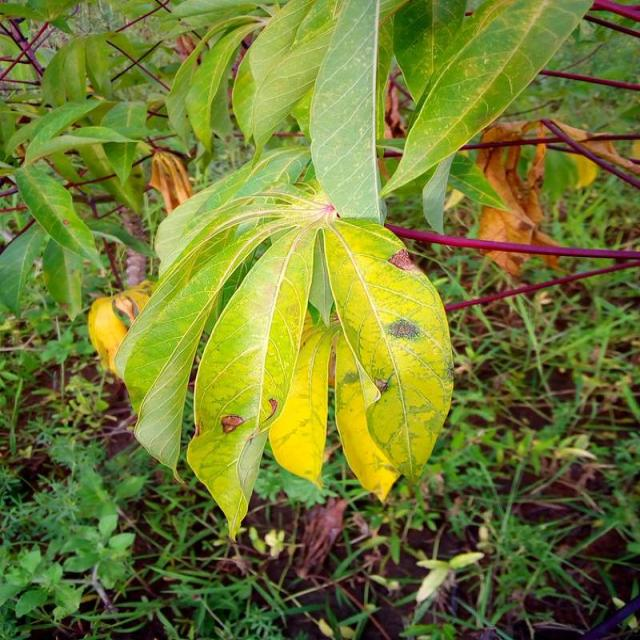cassava leaf: (113, 142, 455, 539), (322, 216, 454, 504), (308, 0, 387, 225)
